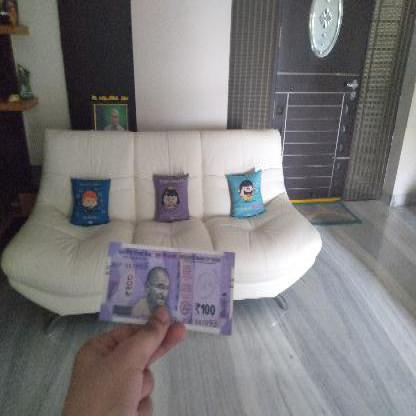New100Front: (102, 247, 238, 333)
